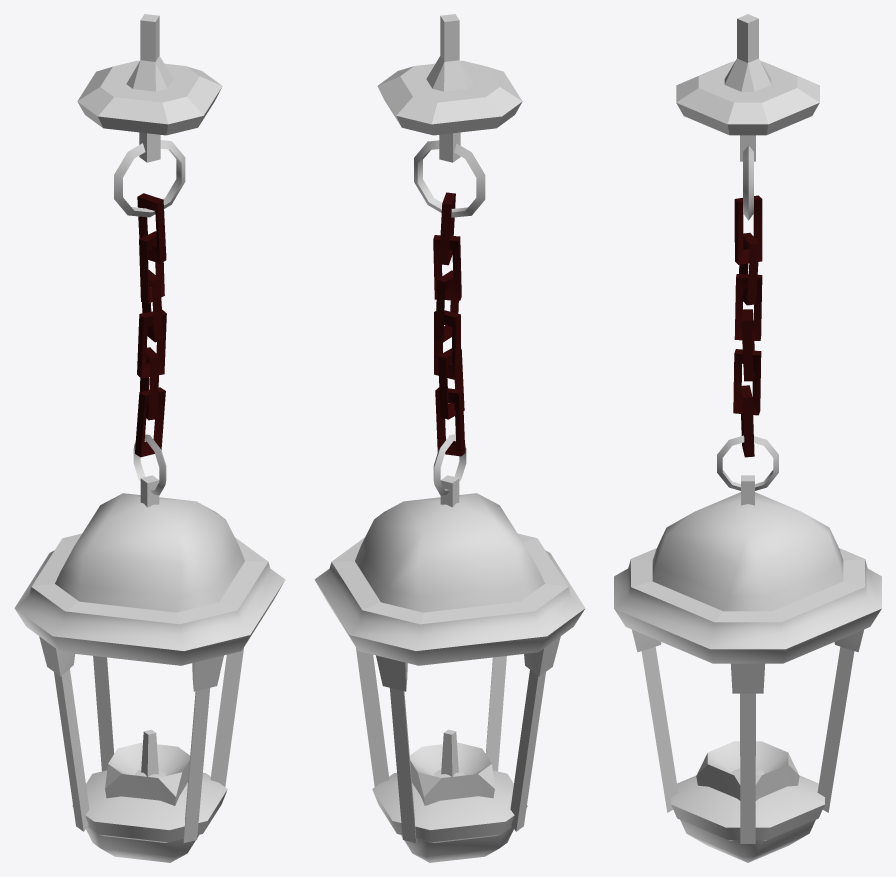
Rendered from TGV_Lamp_02A.fbx.
3 renders of one model, left to right at view 1: azimuth 30°, elevation 25°; view 2: azimuth 150°, elevation 25°; view 3: azimuth 270°, elevation 25°, orthographic.
Visible parts, largest first — view 1: TGV_Lamp_02A_LOD0; view 2: TGV_Lamp_02A_LOD0; view 3: TGV_Lamp_02A_LOD0.
Part boxes in pixels (<box>): TGV_Lamp_02A_LOD0: <box>14,14,285,862</box>; TGV_Lamp_02A_LOD0: <box>314,14,585,862</box>; TGV_Lamp_02A_LOD0: <box>614,14,881,862</box>.
Size of what is drawn, in the model's own units: 44.23 by 152 by 44.23.
